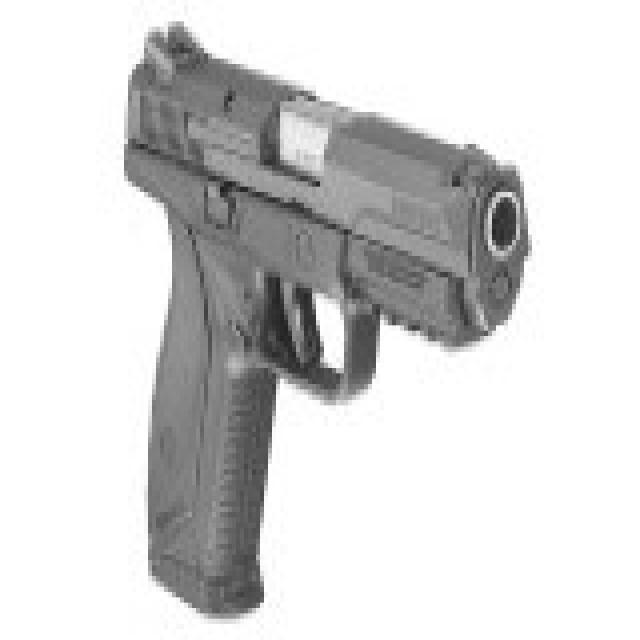Gun: (113, 17, 561, 596)
